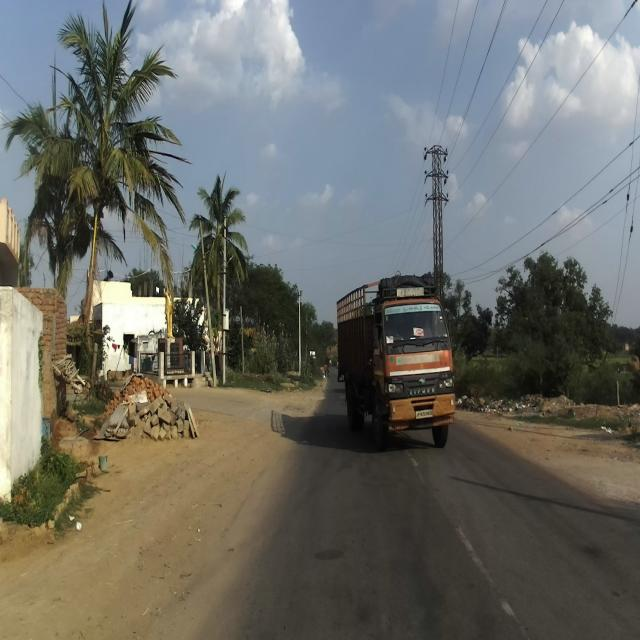truck: (336, 270, 456, 449)
